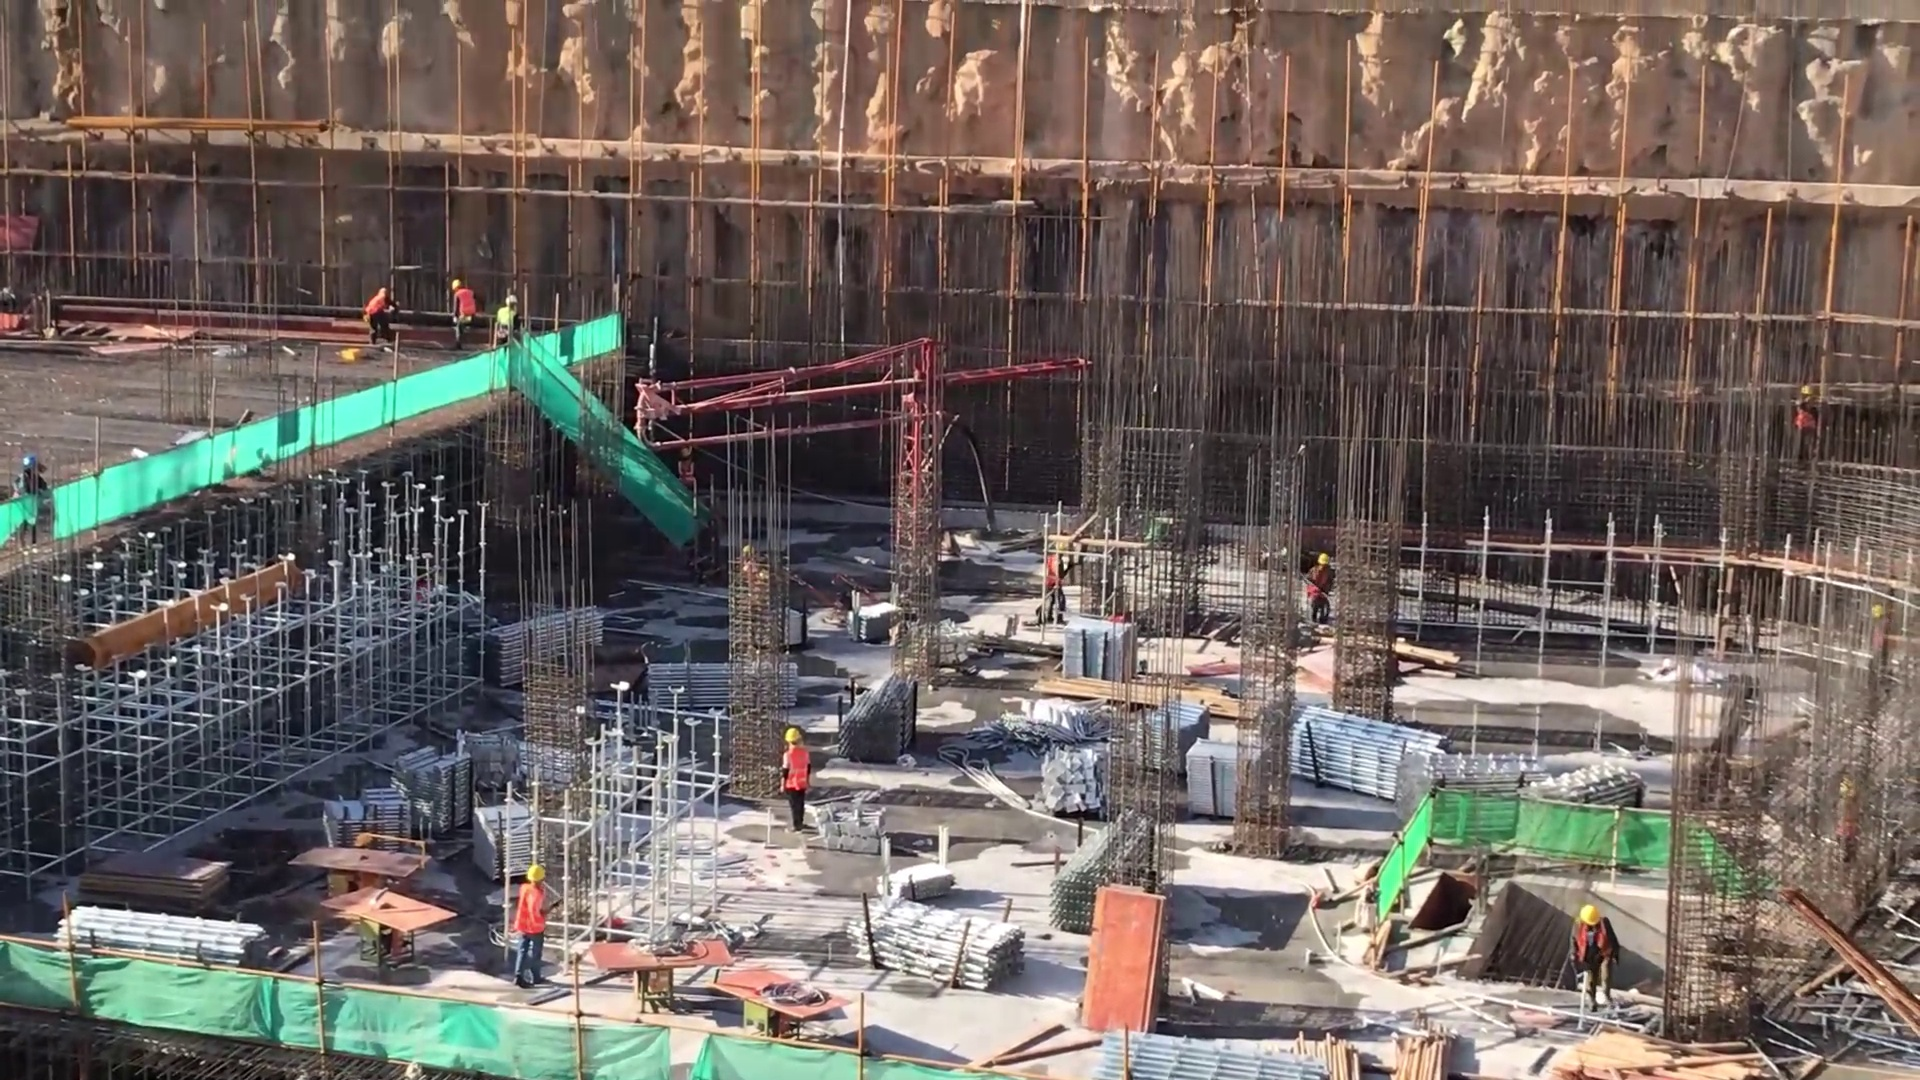cutter: (321, 882, 464, 974), (708, 957, 858, 1041), (593, 928, 733, 1017), (290, 839, 438, 902)
helmet: (518, 862, 551, 886), (1574, 903, 1604, 929), (783, 724, 807, 748), (1314, 549, 1334, 571), (18, 451, 40, 472), (500, 290, 520, 311), (370, 283, 395, 299), (447, 276, 466, 296), (1800, 381, 1818, 399), (679, 446, 698, 459)
person: (505, 854, 560, 989), (1565, 897, 1624, 1019), (772, 722, 820, 840), (442, 267, 483, 351), (1789, 381, 1824, 470), (358, 281, 402, 348), (11, 450, 63, 506), (1304, 547, 1339, 622), (492, 287, 525, 352), (674, 444, 701, 494)
scaffold: (854, 891, 1031, 995), (1288, 699, 1449, 809), (49, 898, 278, 969), (1086, 1016, 1334, 1080), (1390, 745, 1552, 834), (467, 603, 610, 688), (1044, 813, 1115, 945), (1522, 759, 1646, 831), (836, 673, 919, 760), (322, 791, 418, 862), (394, 746, 472, 834), (647, 653, 757, 712), (1179, 731, 1249, 821), (1061, 620, 1139, 685), (475, 805, 538, 881)
vest: (507, 882, 551, 939), (776, 745, 813, 797), (1574, 920, 1615, 964), (1792, 402, 1822, 435), (1309, 569, 1334, 599), (453, 289, 477, 321), (361, 297, 390, 320), (679, 458, 697, 484), (496, 308, 517, 331)
